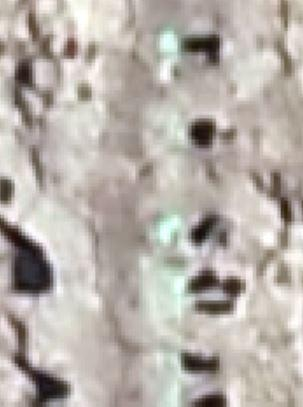cotton: (153, 266, 183, 295), (154, 215, 180, 243), (156, 297, 188, 313), (158, 31, 178, 53), (158, 353, 181, 372)
